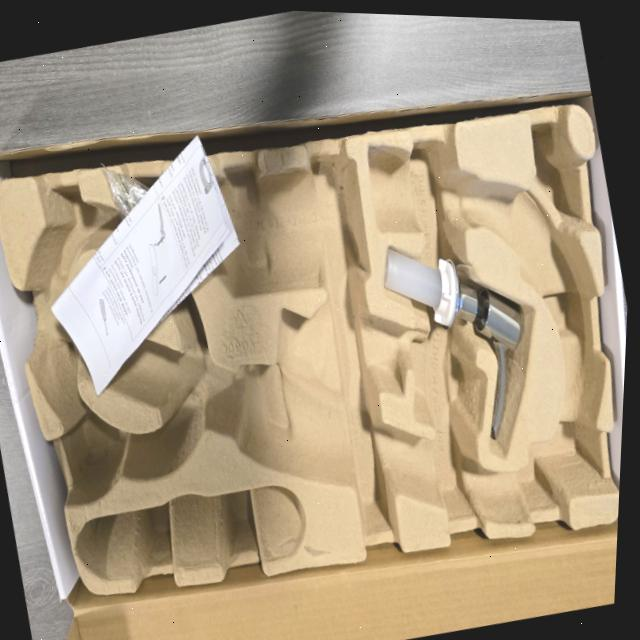1m: (12, 146, 602, 524)
2: (383, 247, 521, 441)
3m: (181, 163, 370, 295)
4m: (75, 487, 306, 577)
5m: (67, 413, 122, 482)
6m: (32, 182, 98, 278)
7o: (96, 160, 184, 291)
8: (49, 133, 242, 395)
